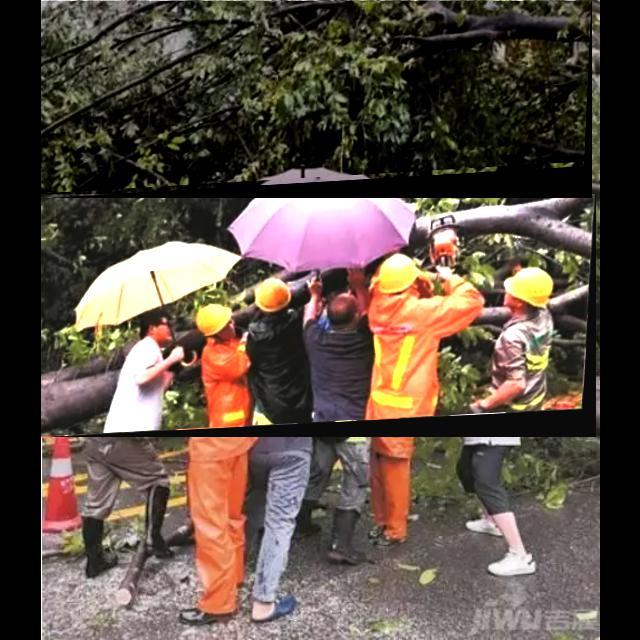fallen_tree: (41, 194, 597, 438), (41, 1, 593, 199)
